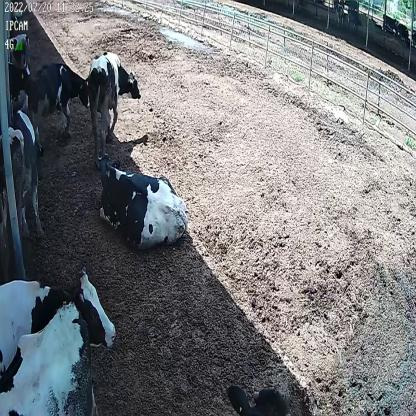cow: (0, 259, 115, 394), (92, 153, 190, 252), (87, 50, 141, 165), (25, 58, 92, 134)
